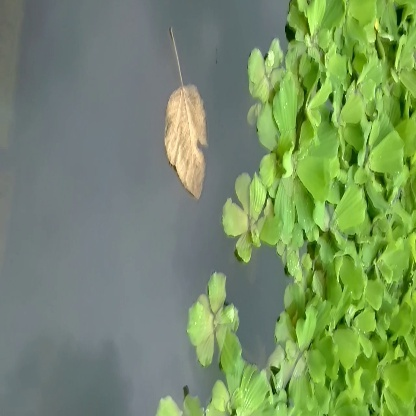leaf: (152, 23, 218, 195)
